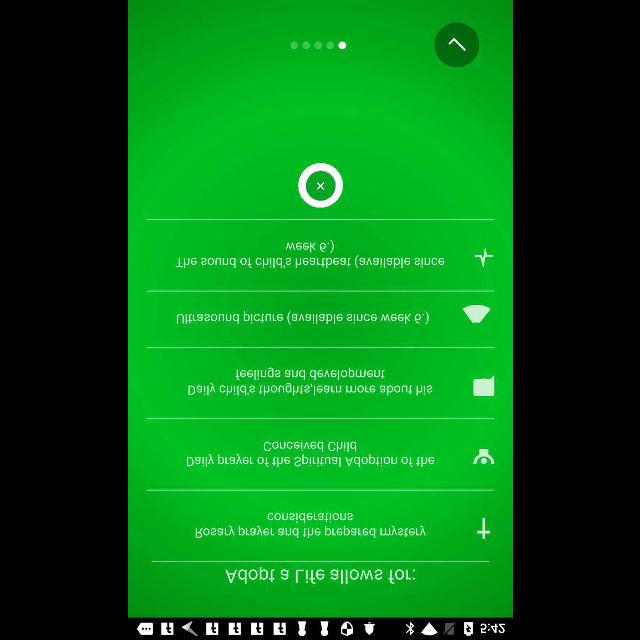button: (297, 162, 343, 208), (434, 22, 478, 68)
icon: (472, 374, 493, 396), (472, 448, 493, 464)
image: (462, 304, 490, 324), (474, 248, 492, 268), (476, 517, 489, 539)
pageindicator: (288, 40, 346, 50)
text: (174, 240, 443, 268), (188, 366, 432, 396), (186, 441, 434, 467), (194, 512, 426, 538), (176, 311, 428, 325), (224, 566, 414, 584)
uppertaskbar: (128, 617, 512, 639)
